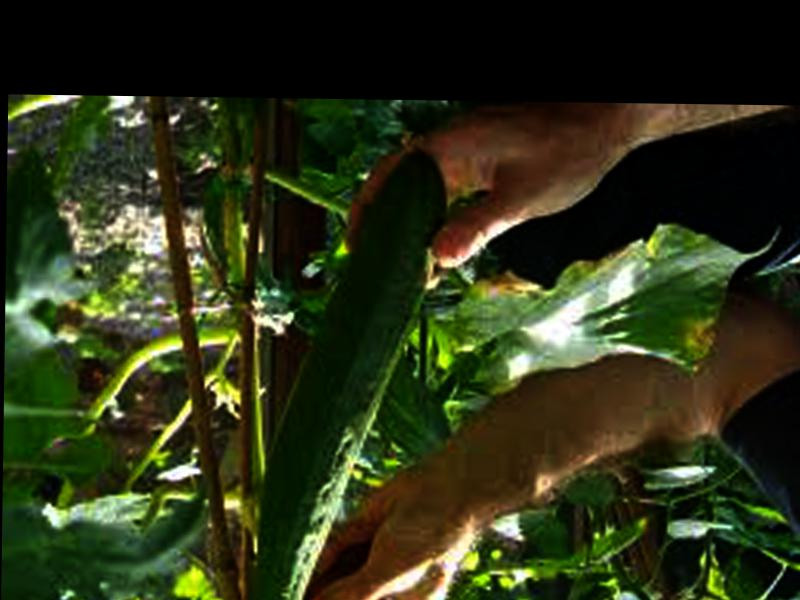Cucumber: (250, 149, 444, 600)
